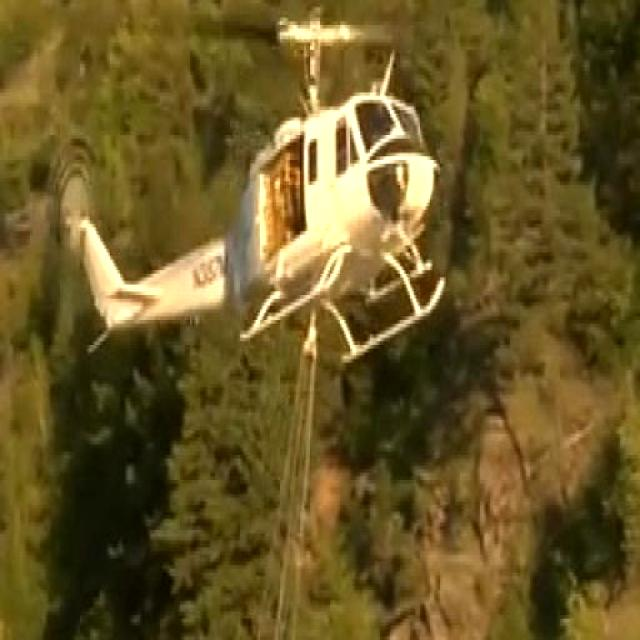drone: (60, 0, 459, 390)
